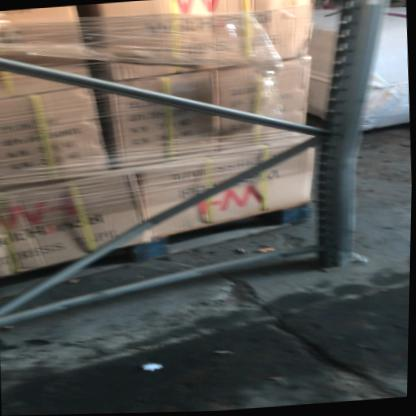vertical_damage: (312, 61, 386, 216)
